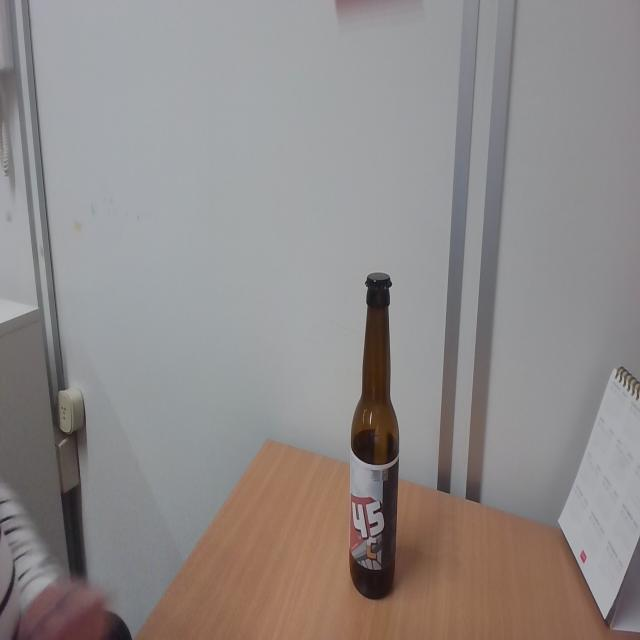Bottle: (349, 270, 400, 600)
Cap: (362, 272, 394, 290)
Label: (351, 455, 396, 571)
